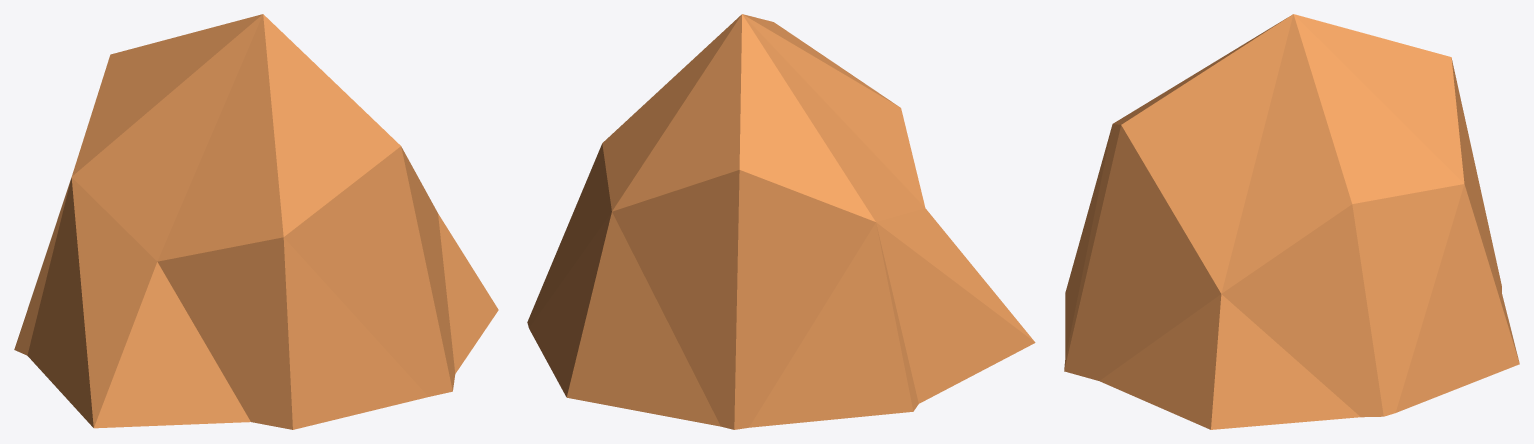
File: Rock_Small_Canyon_01.FBX
3 renders of one model, left to right at view 1: azimuth 30°, elevation 25°; view 2: azimuth 150°, elevation 25°; view 3: azimuth 270°, elevation 25°, orthographic.
Parts seen in each view (by area): view 1: Rock_Small_Canyon_01; view 2: Rock_Small_Canyon_01; view 3: Rock_Small_Canyon_01.
Boxes of the visible parts, box(x1,y1,x2,y2) form: Rock_Small_Canyon_01: box(14, 14, 498, 429); Rock_Small_Canyon_01: box(527, 14, 1035, 429); Rock_Small_Canyon_01: box(1064, 14, 1519, 429).
Size of the model in its own units: 1161 by 819 by 1060.
